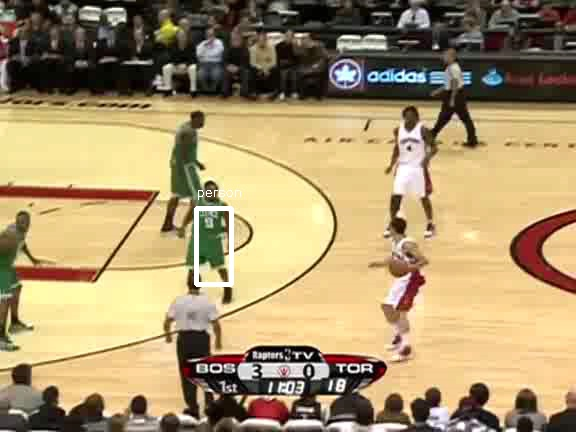person: (191, 193, 225, 274), (190, 193, 224, 274), (192, 193, 226, 274), (191, 192, 225, 273), (191, 194, 225, 275)
target_negative: (297, 148, 510, 265), (65, 368, 355, 398), (312, 381, 564, 415), (444, 92, 451, 350), (489, 258, 500, 337), (550, 392, 562, 418)
